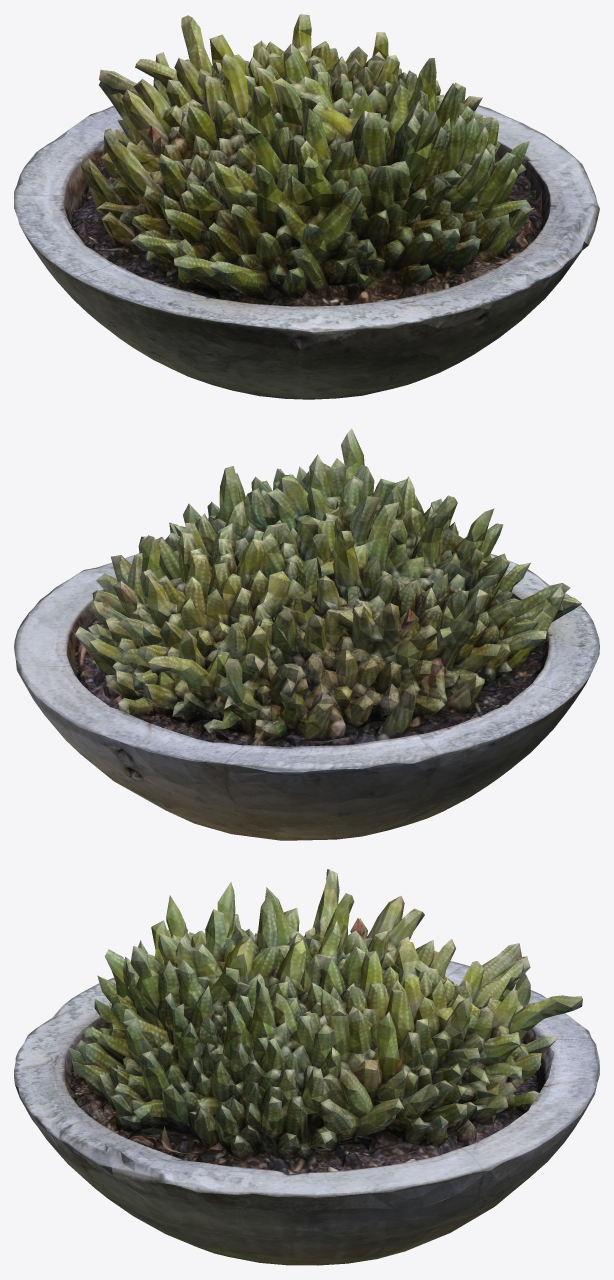
The picture shows the model from 3 angles, top to bottom: view 1: azimuth 30°, elevation 25°; view 2: azimuth 150°, elevation 25°; view 3: azimuth 270°, elevation 25°; orthographic projection.
Parts seen in each view (by area): view 1: Material2; view 2: Material2; view 3: Material2.
Boxes of the visible parts, x1,y1,x2,y2 form: Material2: (14,14,599,399); Material2: (14,428,599,840); Material2: (14,869,599,1265).
Bounding box in the file's own units: 0.4 × 0.2113 × 0.4041.
Materials: 4 (3 with a texture image).
